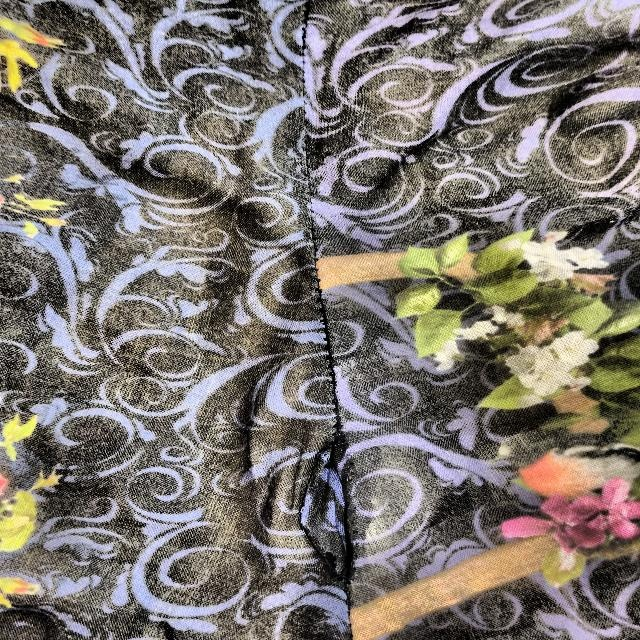seam: (249, 389, 427, 627)
